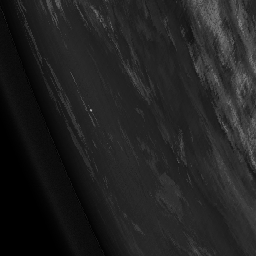Target: (88, 108, 92, 113)
